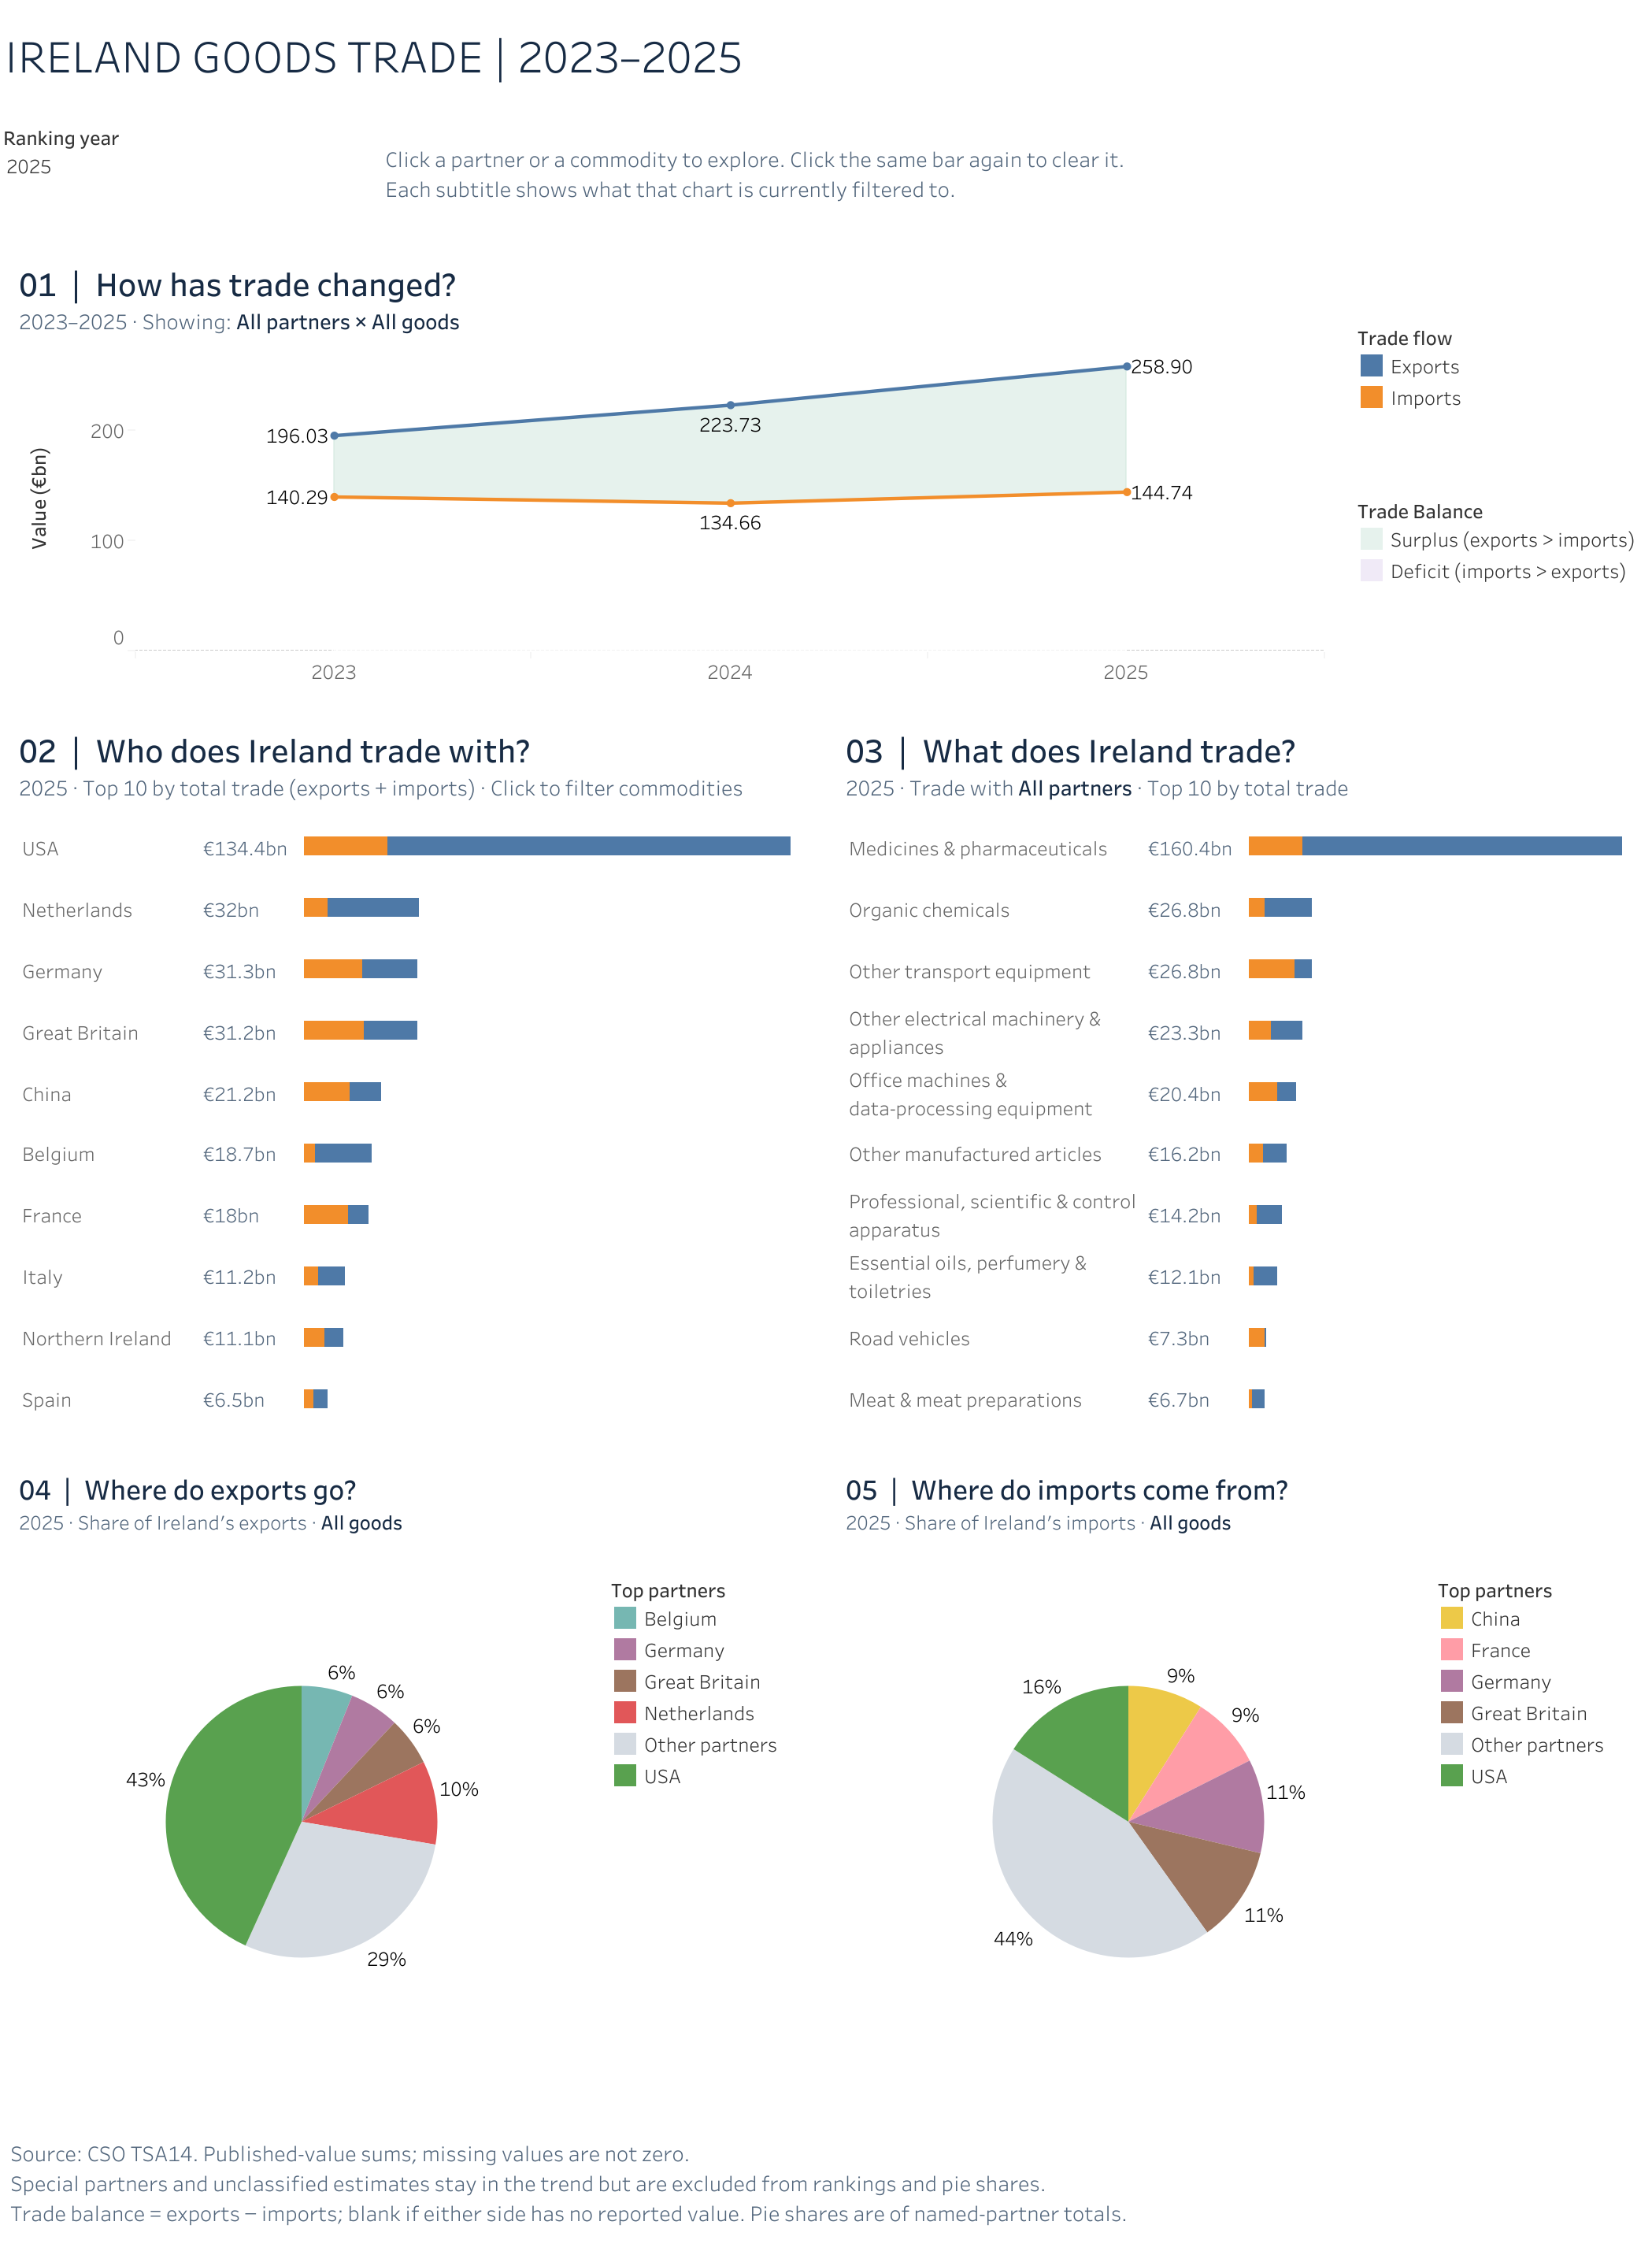

This screenshot's page, from the dashboard's own definition file:
{"tool":"tableau","page":{"name":"Ireland Goods Trade","canvas":[1050,1430],"ordinal":0},"visuals":[{"type":"text","box":[0,0,1050,69.2]},{"type":"text","box":[241.5,75.8,806.4,68.6]},{"type":"parameter","param":"[Parameters].[Selected Year]","box":[2.1,77.3,229.6,66.1]},{"type":"worksheet","title":"Trade Trends","mark":"Area","rows":["value_eur_billion"],"cols":["year"],"box":[0,151.6,849,291.7]},{"type":"legend","title":"Trade Trends","param":"[federated.goods_trade].[none:trade_flow:nk]","box":[857,198.8,193,100.2]},{"type":"legend","title":"Trade Trends","param":"[federated.goods_trade].[:Measure Names]","box":[857,308.9,193,128.7]},{"type":"worksheet","title":"Trade Partners","mark":"Bar","rows":["partner","Partner Total Label"],"cols":["Selected Year Point"],"box":[0,447.6,525,467.6]},{"type":"worksheet","title":"Trade Products","mark":"Bar","rows":["product","Product Total Label"],"cols":["Selected Year Point"],"box":[525,447.6,525,467.6]},{"type":"worksheet","title":"Export Destinations","mark":"Pie","box":[0,919.5,383.2,417.6]},{"type":"worksheet","title":"Import Sources","mark":"Pie","box":[525,919.5,383.2,417.6]},{"type":"legend","title":"Export Destinations","param":"[federated.goods_trade].[none:Pie Partner:nk]","box":[383.2,993.9,141.8,257.4]},{"type":"legend","title":"Import Sources","param":"[federated.goods_trade].[none:Pie Partner:nk]","box":[908.2,993.9,141.8,257.4]},{"type":"text","box":[4.2,1340.5,1041.7,89.5]}]}

Visuals, with their boxes in screenshot pixels (x1, y1, x2, y2), scaled from the page's 1050x1430 canvas onto the 1652x2251 screenshot:
text: 0 0 1651 109
text: 380 119 1649 228
parameter: 3 121 365 226
"Trade Trends" worksheet (Area marks): 0 239 1335 698
"Trade Trends" legend: 1348 313 1651 471
"Trade Trends" legend: 1348 486 1651 689
"Trade Partners" worksheet (Bar marks): 0 705 826 1441
"Trade Products" worksheet (Bar marks): 826 705 1651 1441
"Export Destinations" worksheet (Pie marks): 0 1448 603 2105
"Import Sources" worksheet (Pie marks): 826 1448 1429 2105
"Export Destinations" legend: 603 1564 826 1970
"Import Sources" legend: 1429 1564 1651 1970
text: 6 2110 1646 2250
